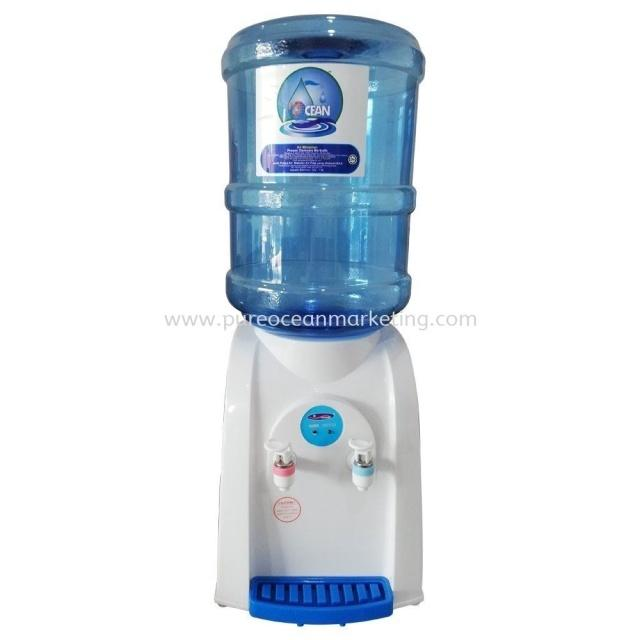Dispenser: (213, 13, 425, 628)
